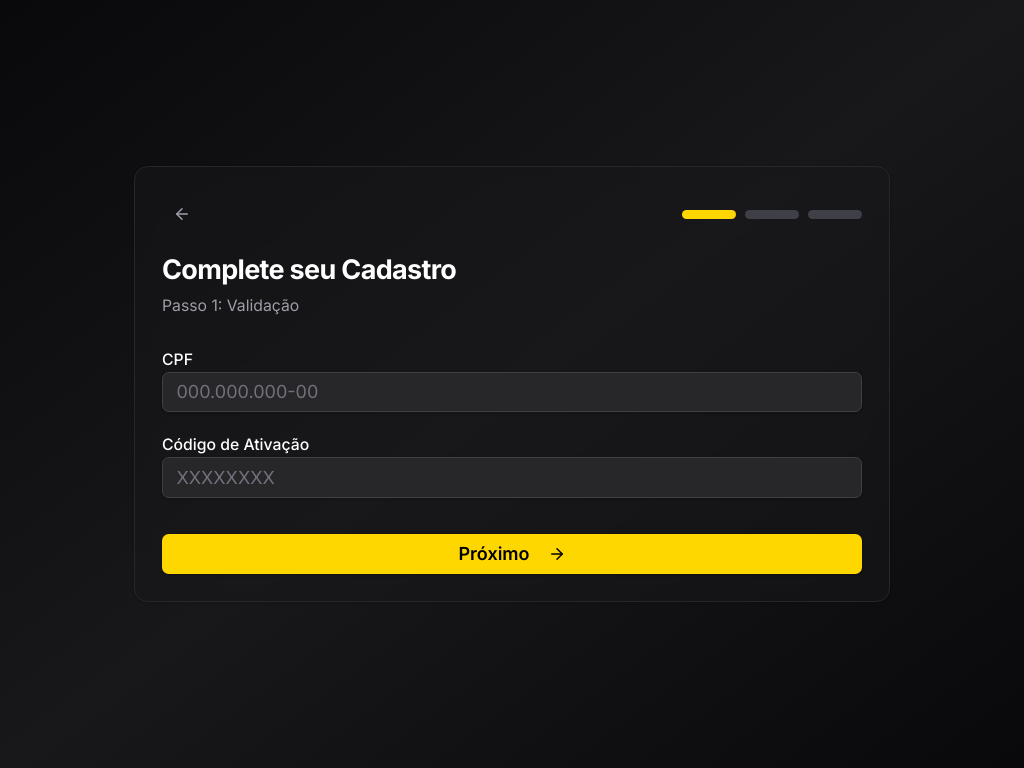
Test: Complete Registration Page › Step 1 - Validation › should validate invalid CPF format
Type "12345" into the field with test id "registration-cpf-input" at [512, 392], box [162,372,862,412]
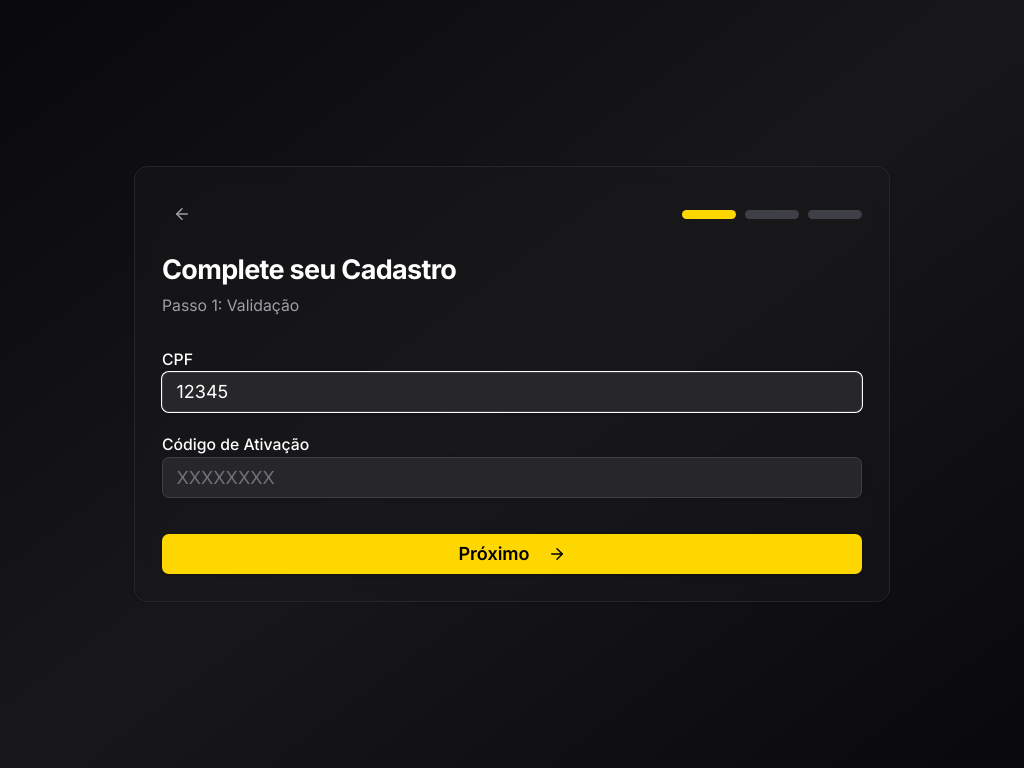
Click the button with test id "step1-next-button" at [512, 554], box [162,534,862,574]
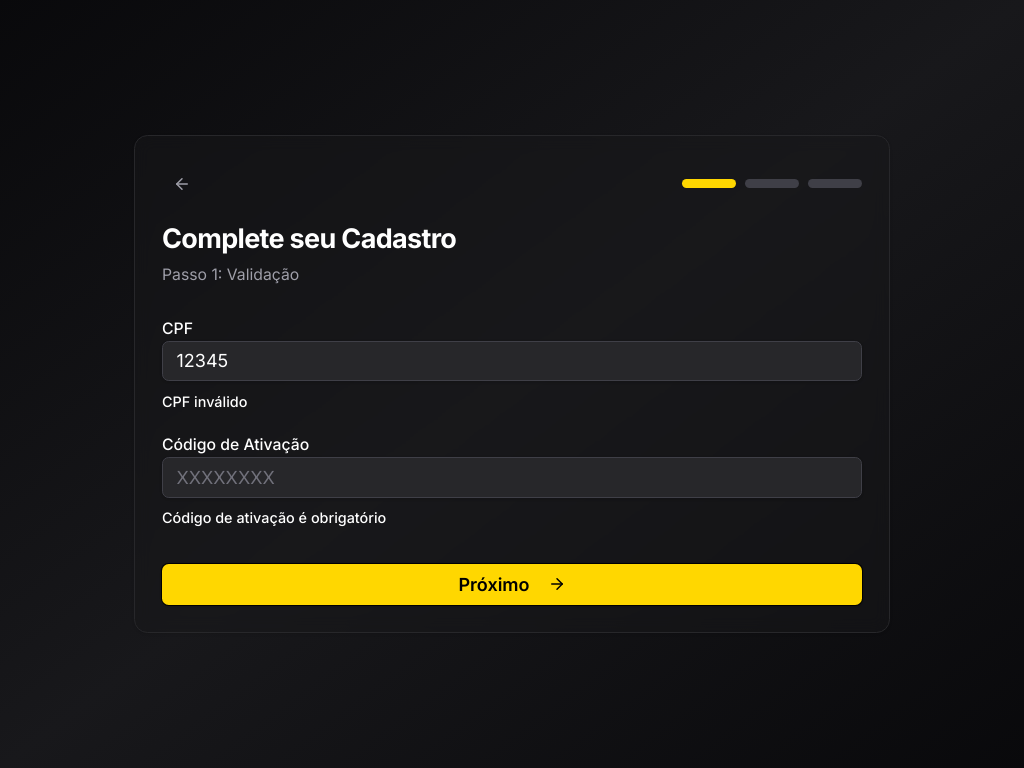
Now the text "CPF inválido" is shown, box [162,392,247,410]
